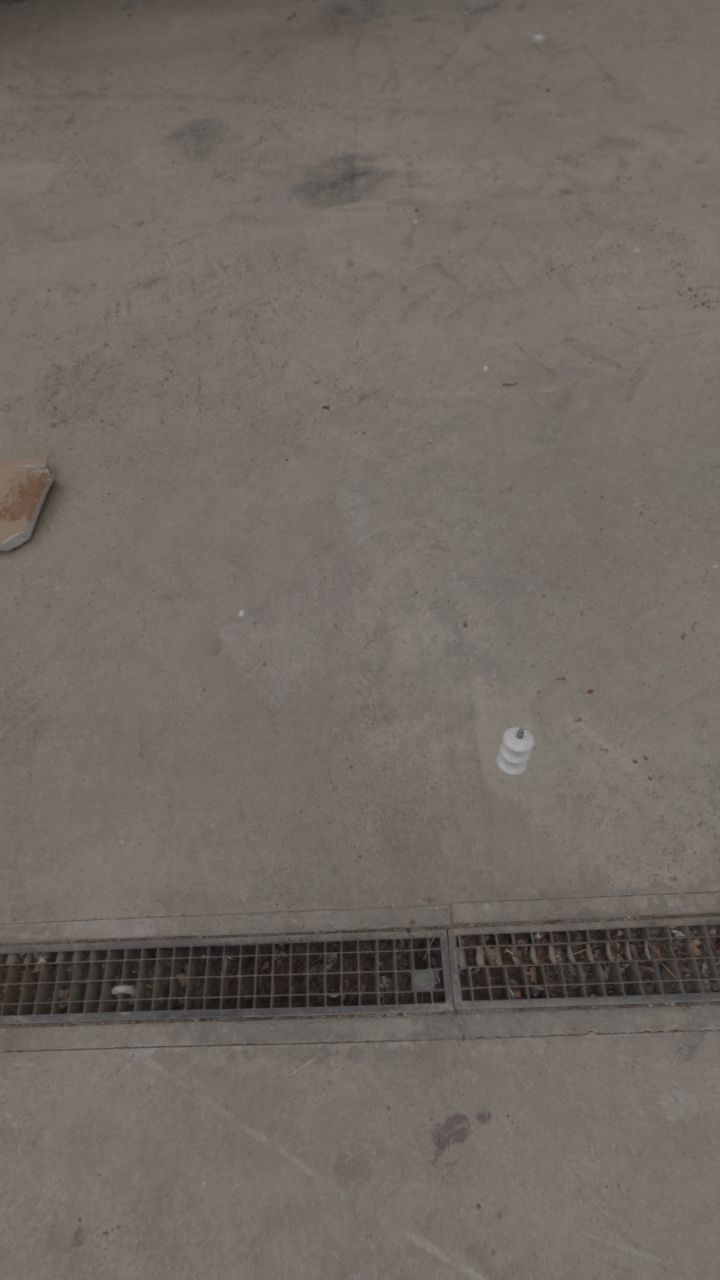ceramicinsulators: (497, 727, 534, 775)
